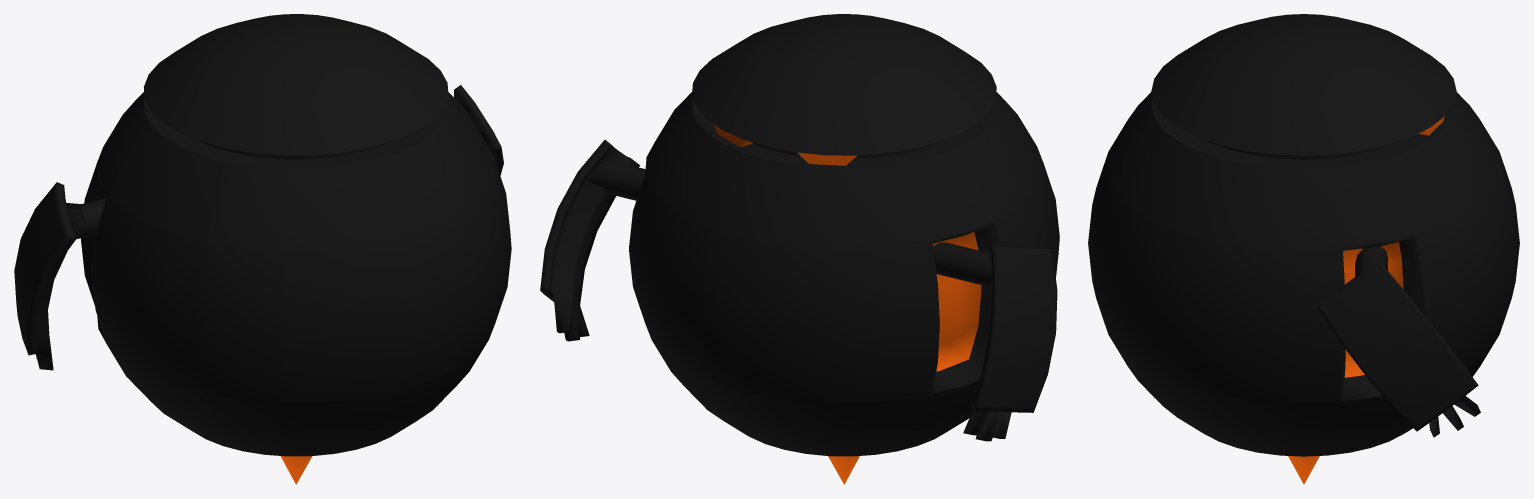
The model's file is player2.glb.
3 views of the same model, side by side, from view 1: azimuth 30°, elevation 25°; view 2: azimuth 150°, elevation 25°; view 3: azimuth 270°, elevation 25° (orthographic).
Parts seen in each view (by area): view 1: Sphere, Sphere.001, Sphere.003, Sphere.002, Cylinder; view 2: Sphere, Sphere.001, Sphere.003, Sphere.002, Cylinder, Cube; view 3: Sphere, Sphere.001, Sphere.002, Cylinder, Cone.
Part boxes in pixels (<box>): Sphere: <box>80,92,511,456</box>; Sphere.001: <box>143,14,448,159</box>; Sphere.003: <box>14,182,85,370</box>; Sphere.002: <box>454,85,503,175</box>; Cylinder: <box>76,198,106,239</box>; Sphere: <box>629,92,1059,456</box>; Sphere.001: <box>692,14,996,159</box>; Sphere.003: <box>963,247,1057,441</box>; Sphere.002: <box>540,139,639,341</box>; Cylinder: <box>589,161,991,287</box>; Cube: <box>713,124,857,165</box>; Sphere: <box>1088,92,1519,456</box>; Sphere.001: <box>1151,14,1456,159</box>; Sphere.002: <box>1317,260,1480,437</box>; Cylinder: <box>1355,246,1387,276</box>; Cone: <box>1288,456,1319,484</box>.
Bounding box in the file's own units: 0.7648 × 0.7007 × 0.6082.
